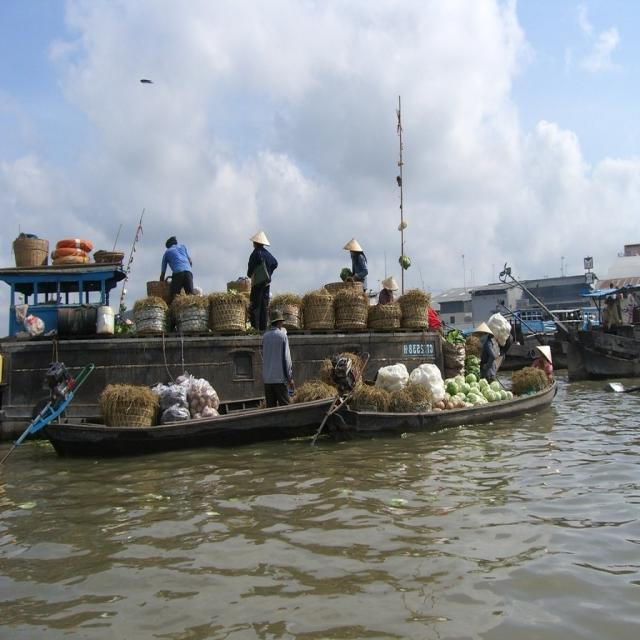boat: (37, 390, 341, 456), (345, 372, 570, 444), (570, 299, 636, 382)
